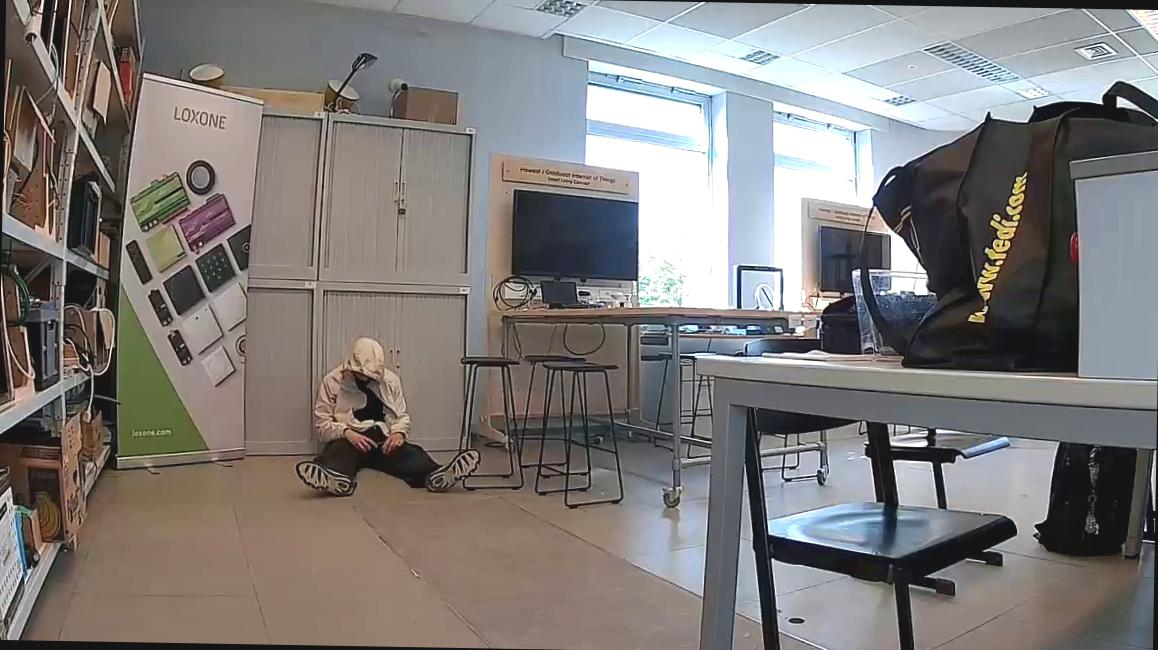korban: (294, 334, 484, 497)
